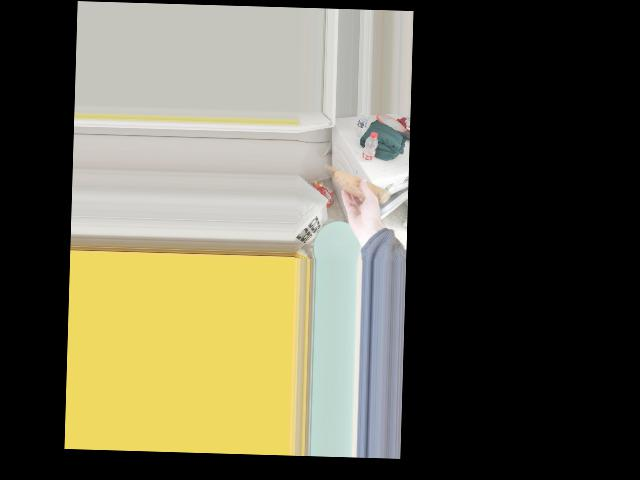sweet_potato: (339, 169, 386, 203)
